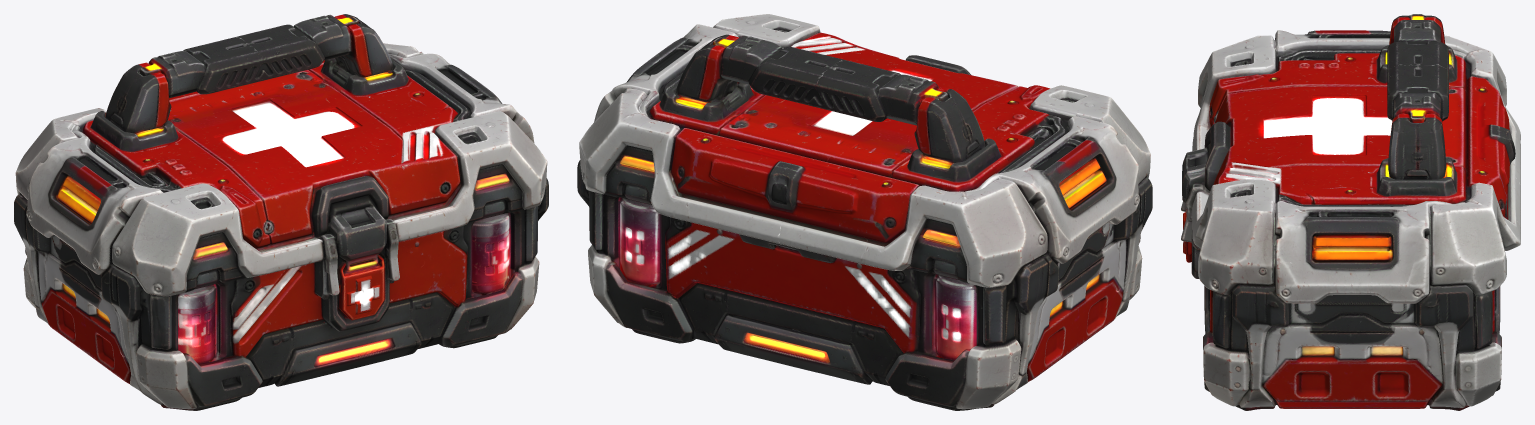
The model's file is heal_big.glb.
3 views of the same model, side by side, from view 1: azimuth 30°, elevation 25°; view 2: azimuth 150°, elevation 25°; view 3: azimuth 270°, elevation 25° (orthographic). The views are drawn at different scales.
Parts seen in each view (by area): view 1: Lid, Base; view 2: Lid, Base; view 3: Lid, Base.
Boxes of the visible parts, x1,y1,x2,y2 form: Lid: (15,14,547,282); Base: (14,178,548,410); Lid: (579,14,1150,272); Base: (577,160,1152,410); Lid: (1182,14,1517,289); Base: (1181,96,1520,410).
Size of the model in its own units: 0.3 by 0.1723 by 0.1996.
Materials: 1 (1 with a texture image).
